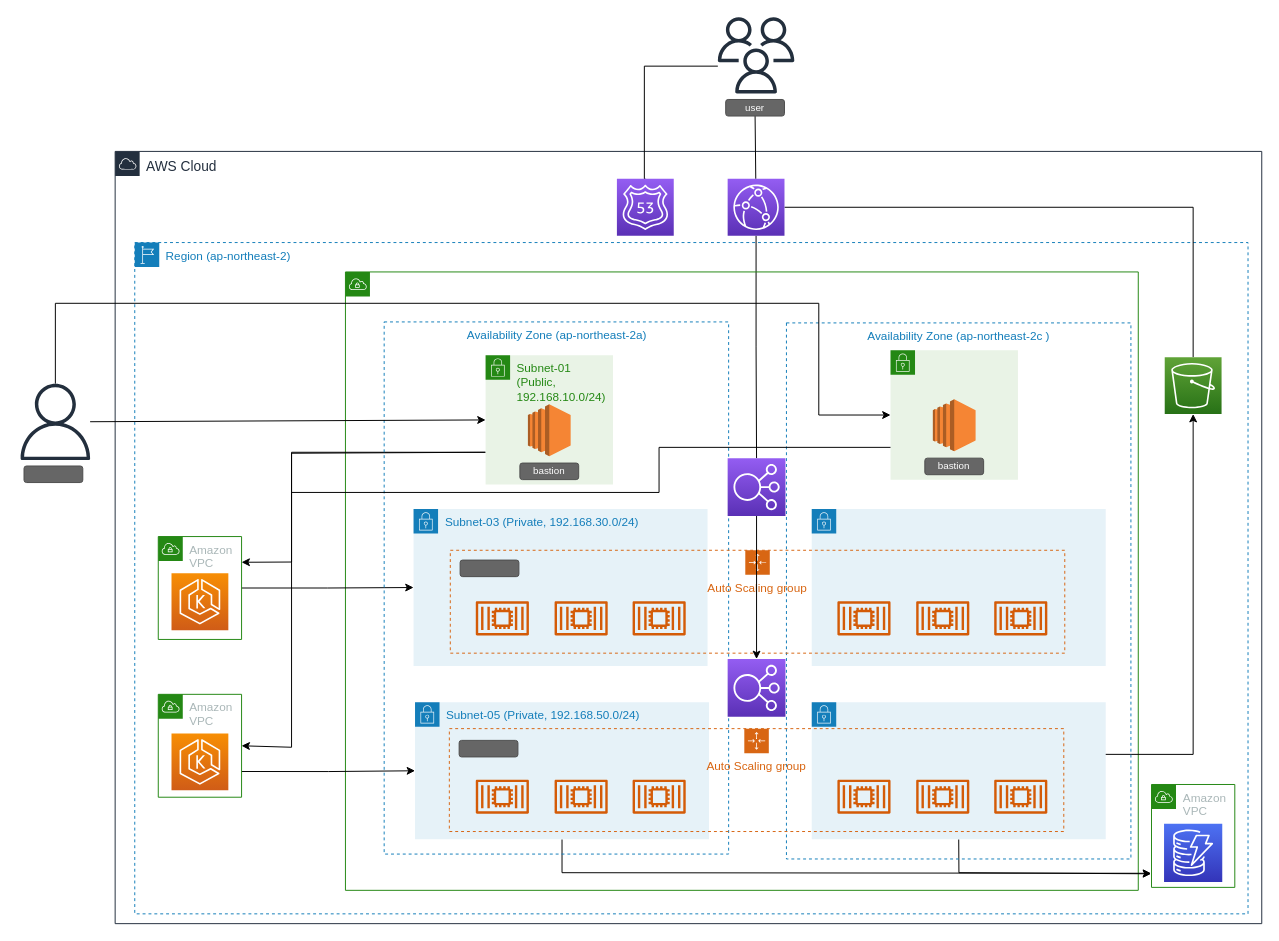
The diagram is 1279 pixels wide and 941 high, and some of its shapes have lost their labels. Each missing label, with the box of its shape:
admin: (23, 465, 83, 483)
app: (458, 739, 518, 757)
Deve VPC (192.168.0.0/16): (344, 271, 1138, 890)
Subnet-02 (Public, 192.168.20.0/24): (890, 349, 1018, 480)
Subnet-04 (Private, 192.168.40.0/24): (811, 508, 1106, 666)
Subnet-06 (Private, 192.168.60.0/24): (811, 701, 1106, 839)
web: (459, 559, 519, 577)
